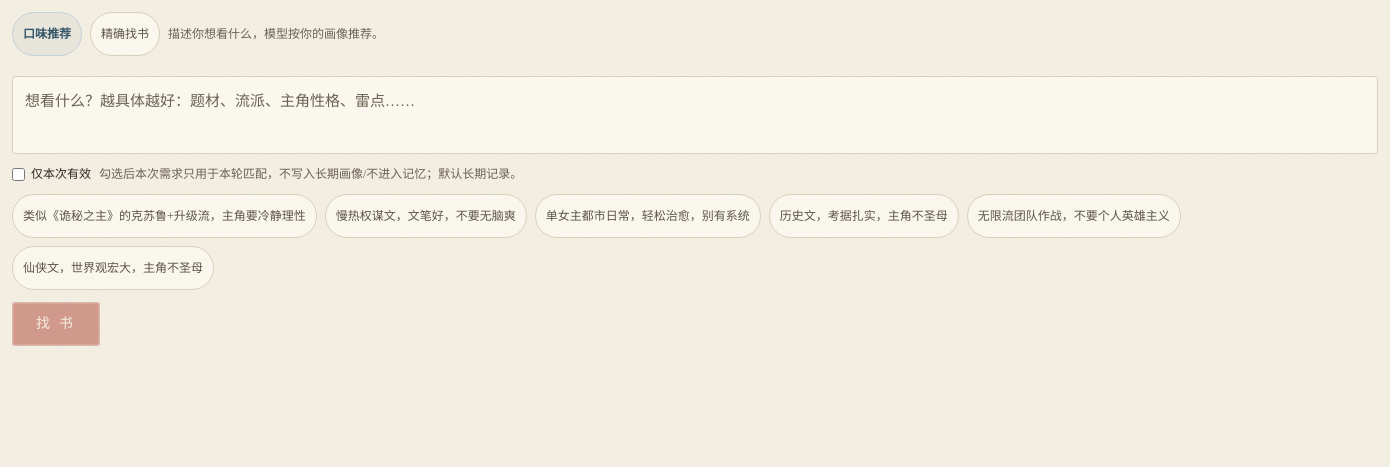
Scenario: 精确找书结果的阅读入口 › 已有共享 TXT 定位时直达下载阅读链，不重新走书源
The image size is (1390, 467).
Click the tab "精确找书". click: (125, 34)
box: [90, 12, 160, 56]
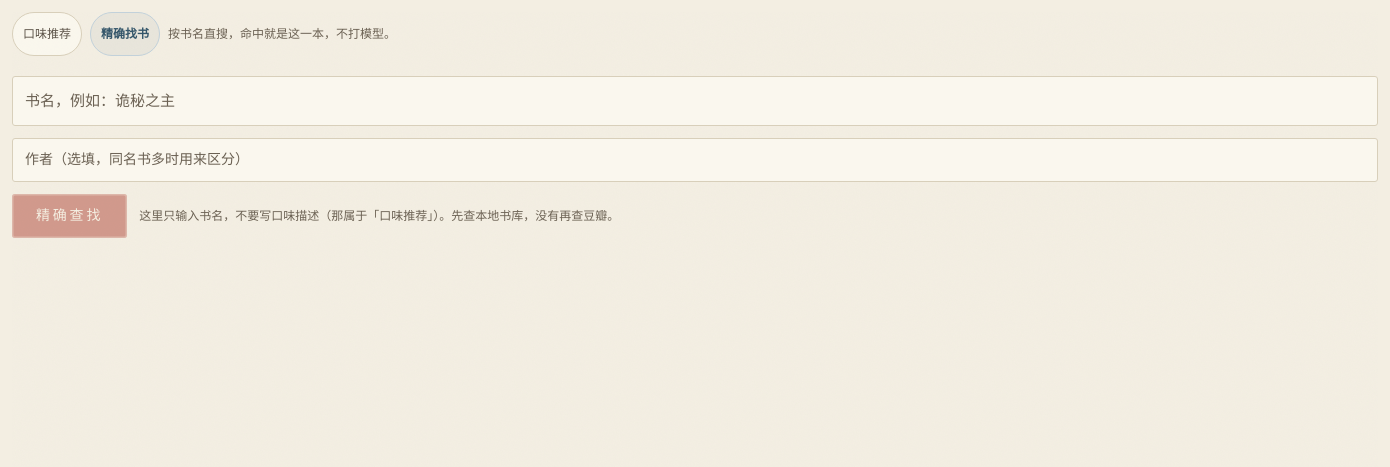
Type "已有正文" into the field labelled "书名". click: (695, 101)
box: [12, 76, 1378, 126]
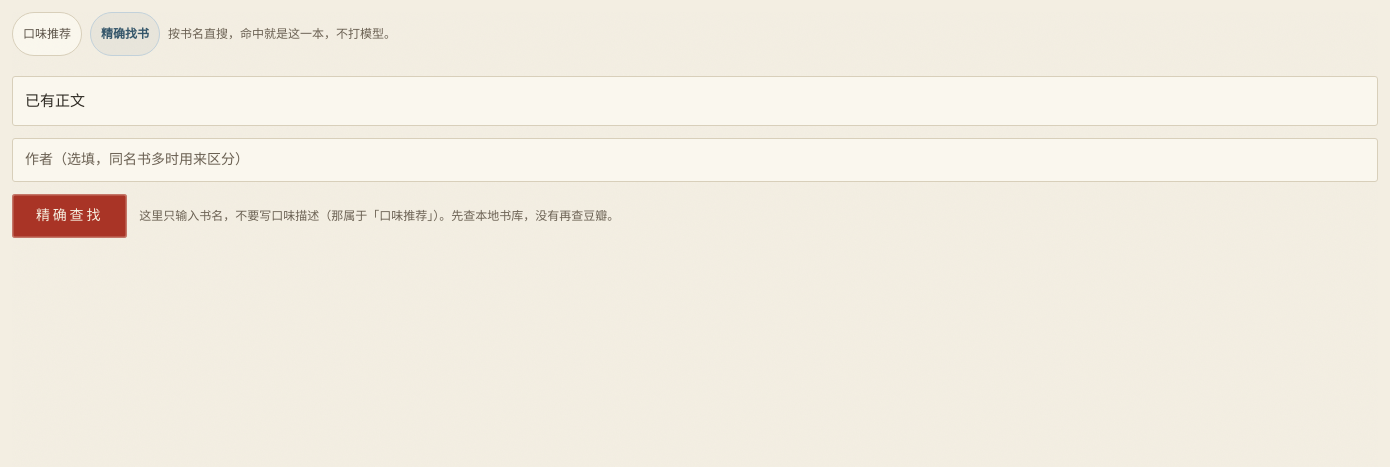
Click the button "精确查找". click: (70, 216)
box: [12, 194, 127, 238]
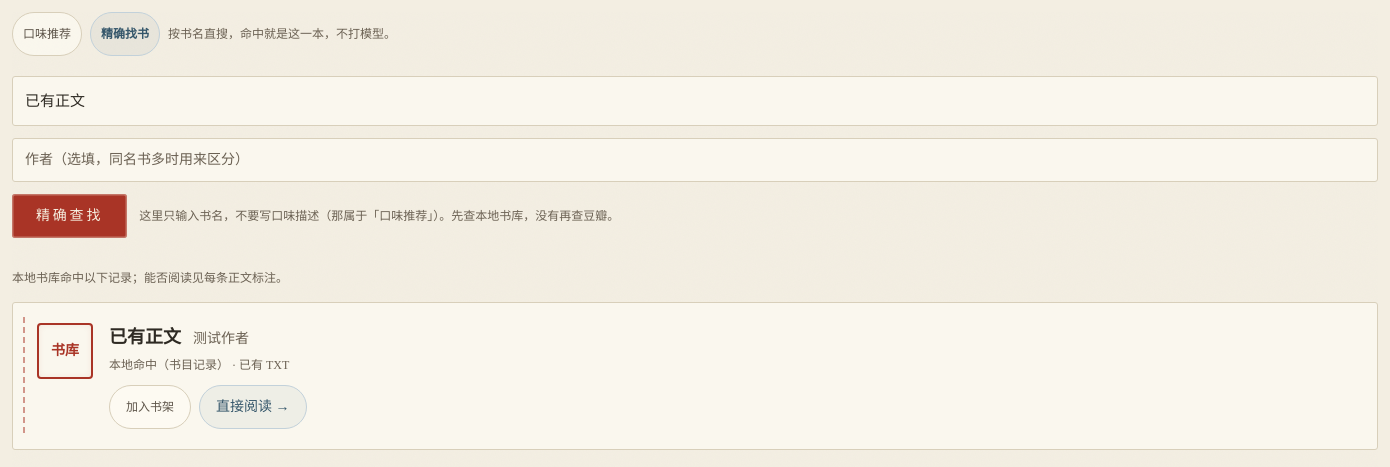
Expected: the heading "已有正文" is shown, [109, 323, 181, 351]
